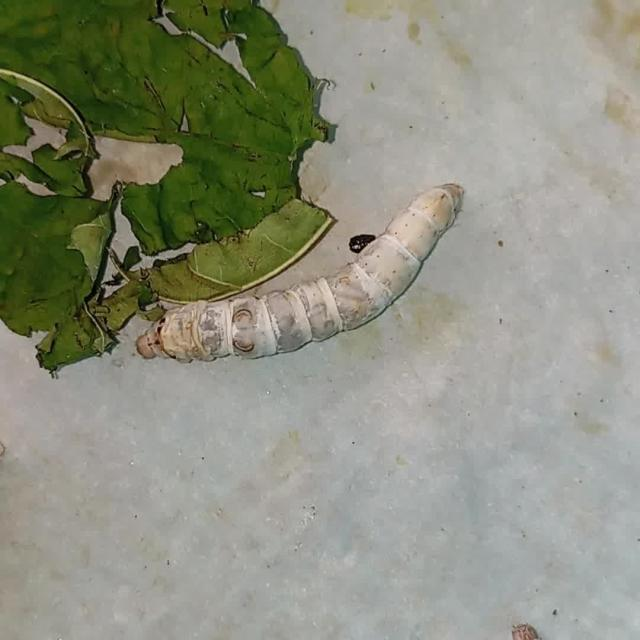Grasserie: (128, 160, 471, 372)
